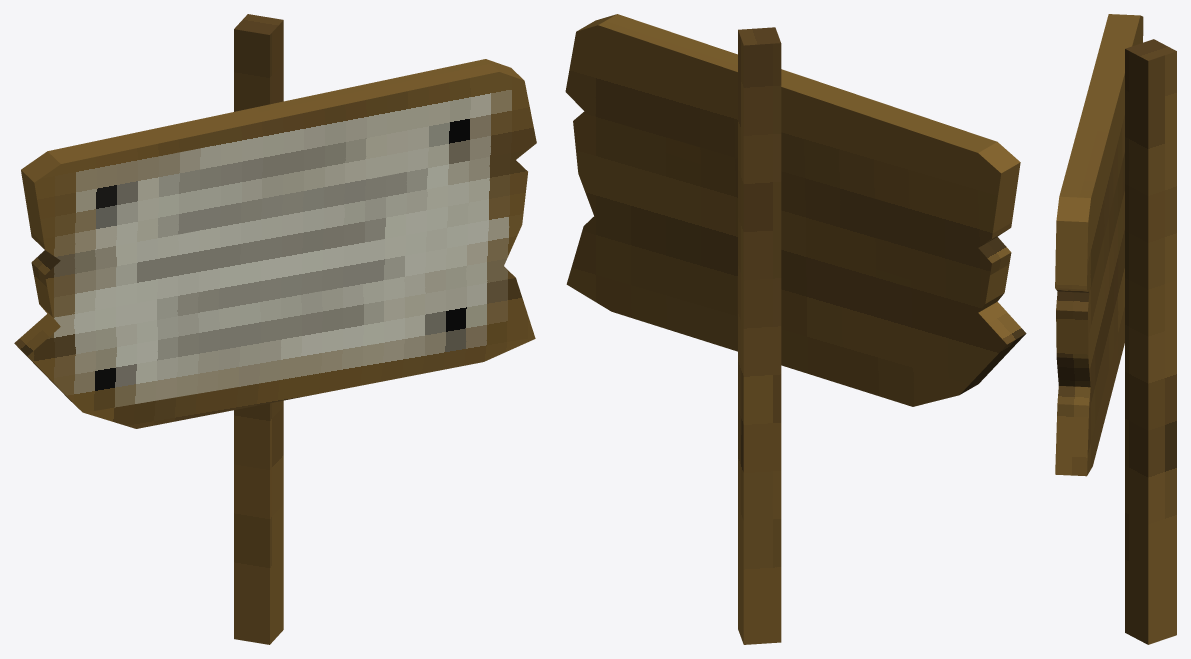
Rendered from SignFlashLight.gltf.
The picture shows the model from 3 angles, left to right: view 1: azimuth 30°, elevation 25°; view 2: azimuth 150°, elevation 25°; view 3: azimuth 270°, elevation 25°; orthographic projection. The views are drawn at different scales.
Parts seen in each view (by area): view 1: Sign; view 2: Sign; view 3: Sign.
Boxes of the visible parts, box(x1,y1,x2,y2) form: Sign: box(14, 14, 536, 644); Sign: box(565, 14, 1026, 644); Sign: box(1055, 14, 1176, 644).
Size of the model in its own units: 9.35 by 11.3 by 2.14.
Materials: 1 (1 with a texture image).
